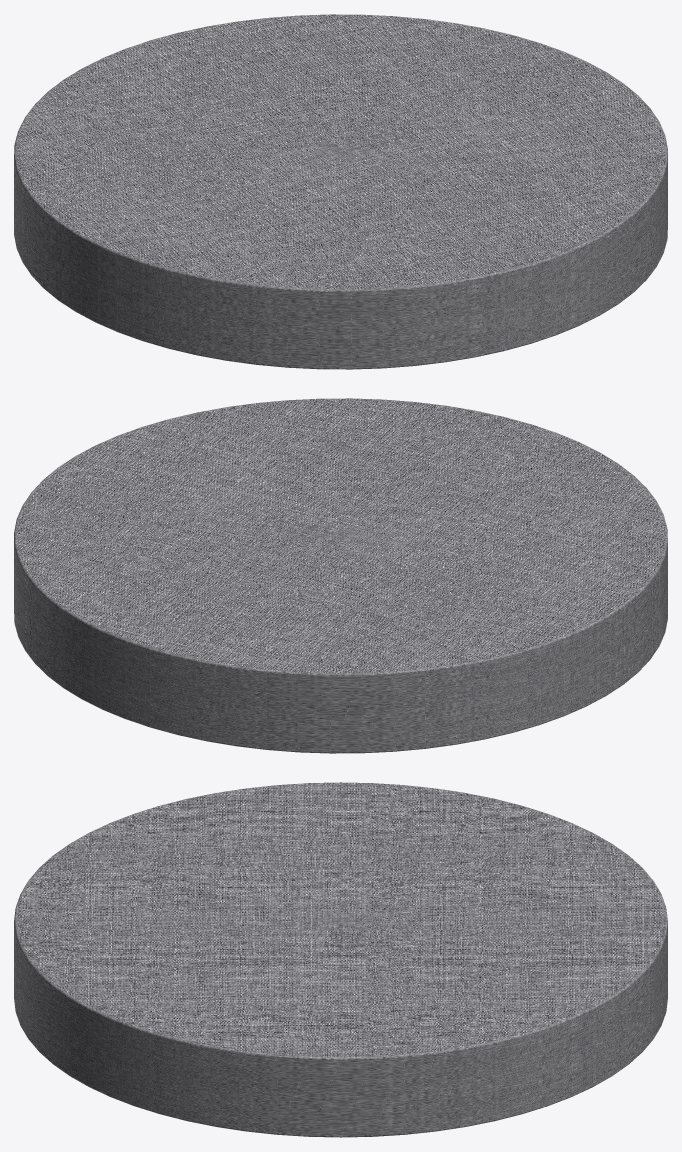
The model's file is graySofa.glb.
3 views of the same model, one above another, from view 1: azimuth 30°, elevation 25°; view 2: azimuth 150°, elevation 25°; view 3: azimuth 270°, elevation 25° (orthographic).
Parts seen in each view (by area): view 1: Cylinder; view 2: Cylinder; view 3: Cylinder.
Boxes of the visible parts, left/top/right/bottom form: Cylinder: left=14, top=14, right=667, bottom=369; Cylinder: left=14, top=398, right=667, bottom=753; Cylinder: left=14, top=782, right=667, bottom=1137.
Size of the model in its own units: 4.06 by 0.5478 by 4.06.
Materials: 1 (1 with a texture image).
